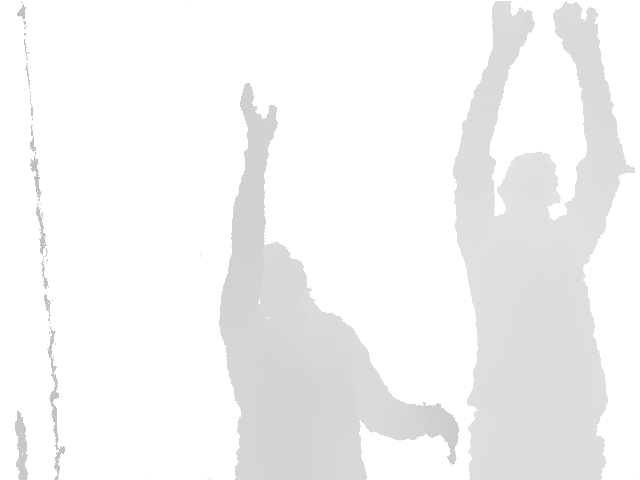hand: (489, 1, 536, 55), (240, 82, 279, 146), (551, 1, 601, 48)
head: (495, 151, 562, 217), (250, 242, 315, 304)
person: (215, 82, 462, 480), (451, 1, 638, 480)
